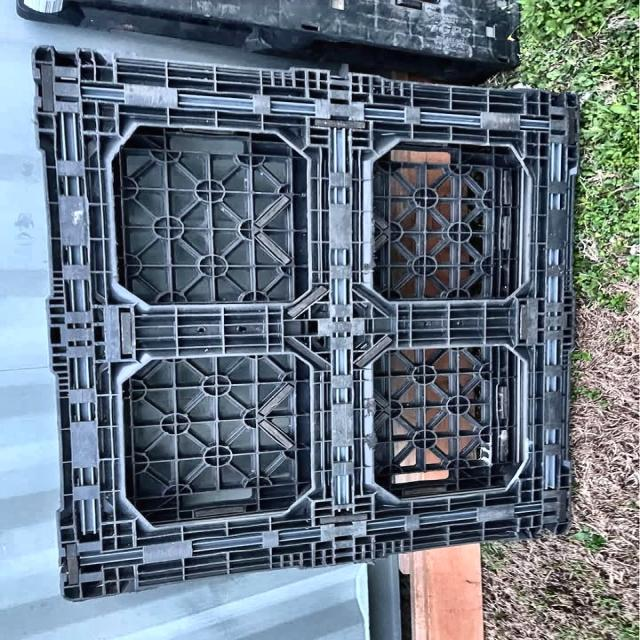igps: (14, 26, 606, 614)
